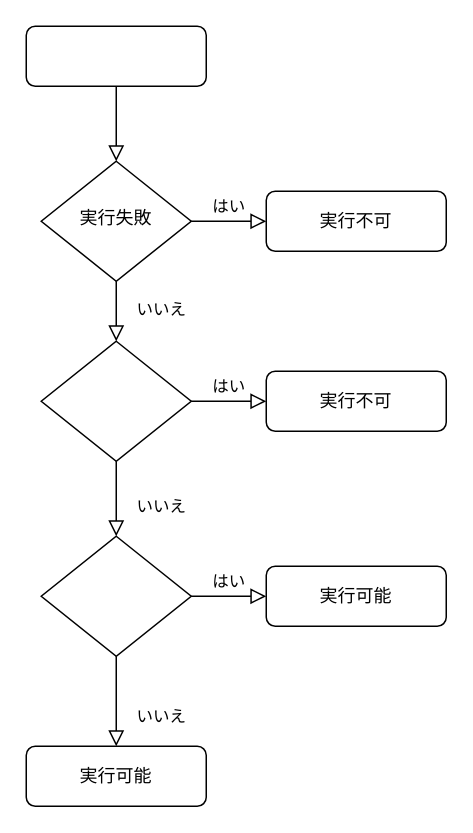
Some shapes in this 473 by 833 pixel diagram are drawn without their labels. The box of each missing label's shape, as (x1, y1, x2, y2) in pixels:
バイナリ実行: (25, 25, 206, 86)
無限ループ: (40, 535, 191, 656)
異常終了: (40, 340, 191, 461)
